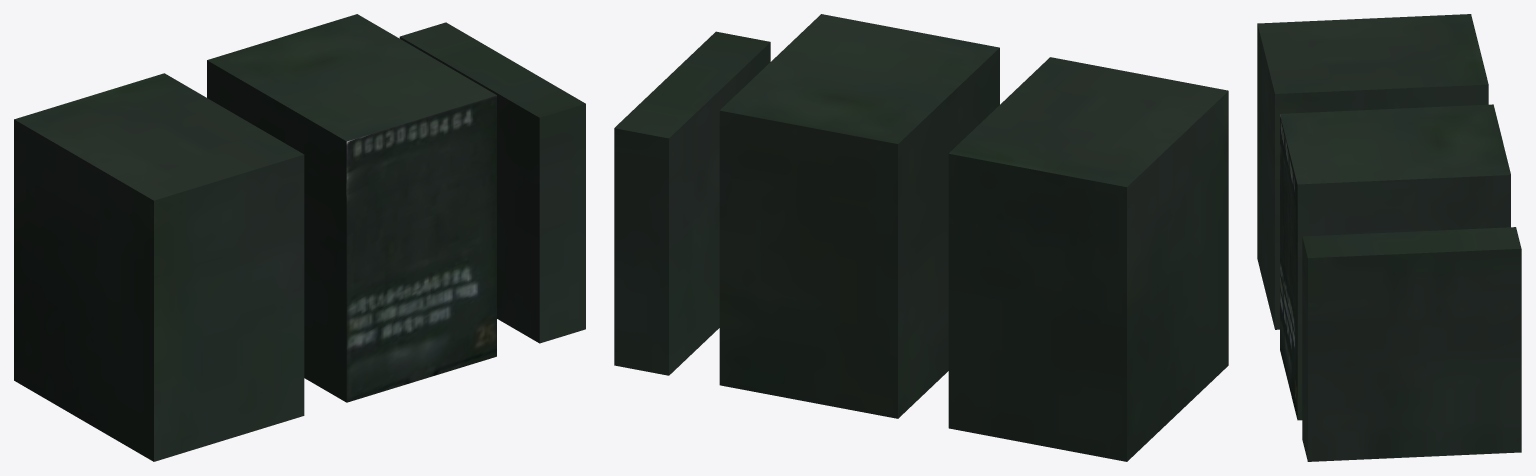
3 views of the same model, side by side, from view 1: azimuth 30°, elevation 25°; view 2: azimuth 150°, elevation 25°; view 3: azimuth 270°, elevation 25° (orthographic). The views are drawn at different scales.
Parts seen in each view (by area): view 1: Box2; view 2: Box2; view 3: Box2.
Boxes of the visible parts, x1=… form: Box2: x1=14, y1=14, x2=585, y2=461; Box2: x1=614, y1=14, x2=1228, y2=461; Box2: x1=1257, y1=14, x2=1521, y2=461.
Bounding box in the file's own units: 1.4 × 0.727 × 0.7375.
Materials: 1 (1 with a texture image).
